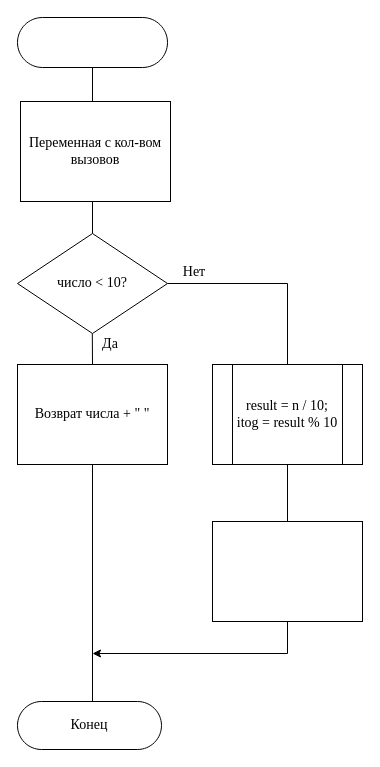
This 380x767 diagram has some shape labels left out. Each missing label, with the centre of its shape:
Возврат result + " ": [287,571]
Начало: [92,42]
